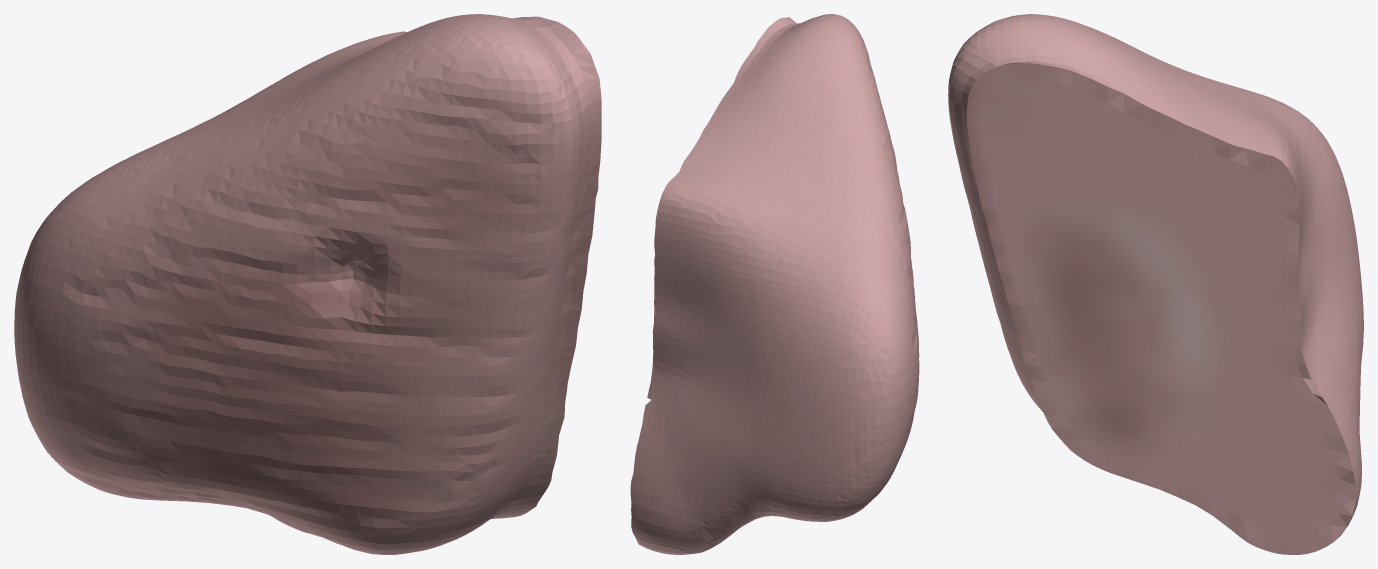
The model's file is Pons.obj.
3 renders of one model, left to right at view 1: azimuth 30°, elevation 25°; view 2: azimuth 150°, elevation 25°; view 3: azimuth 270°, elevation 25°, orthographic. The views are drawn at different scales.
Visible parts, largest first — view 1: obj0; view 2: obj0; view 3: obj0.
Part boxes in pixels (x1=…): obj0: x1=14, y1=14, x2=601, y2=554; obj0: x1=630, y1=14, x2=919, y2=554; obj0: x1=948, y1=14, x2=1363, y2=554.
Bounding box in the file's own units: 21.63 × 36.94 × 27.44.
1 material, 1 textured.
